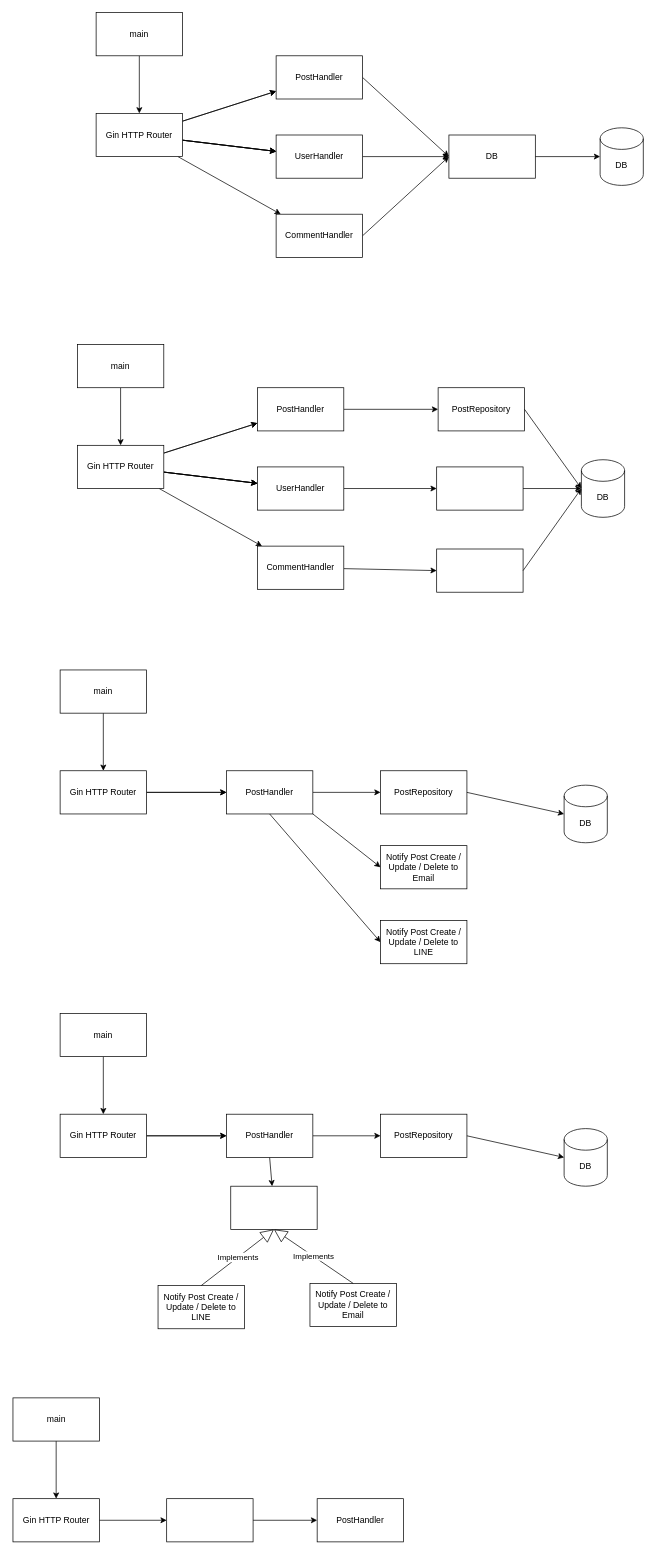
This 656x1554 diagram has some shape labels left out. Here are the shapes that lost their labels. From the top down, the centre of each, then its label:
At pixel 479 488: "UserRepository".
At pixel 479 570: "CommentRepository".
At pixel 273 1207: "Notifier".
At pixel 209 1520: "Logger Middleware".
